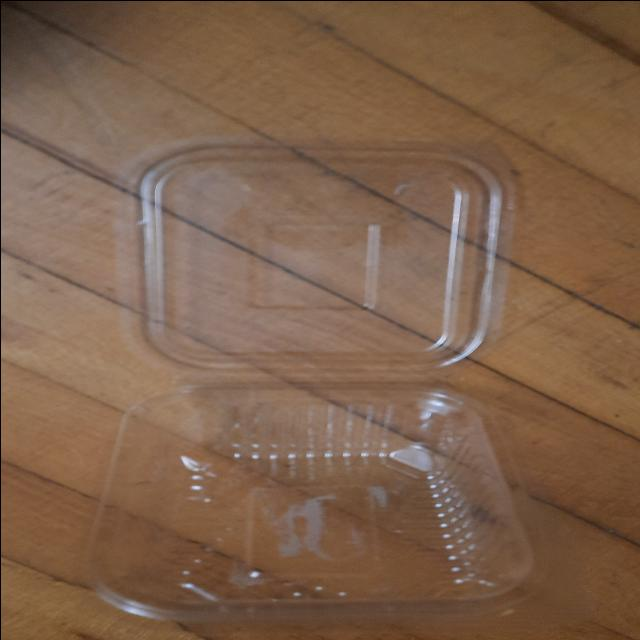plastic: (85, 133, 537, 637)
